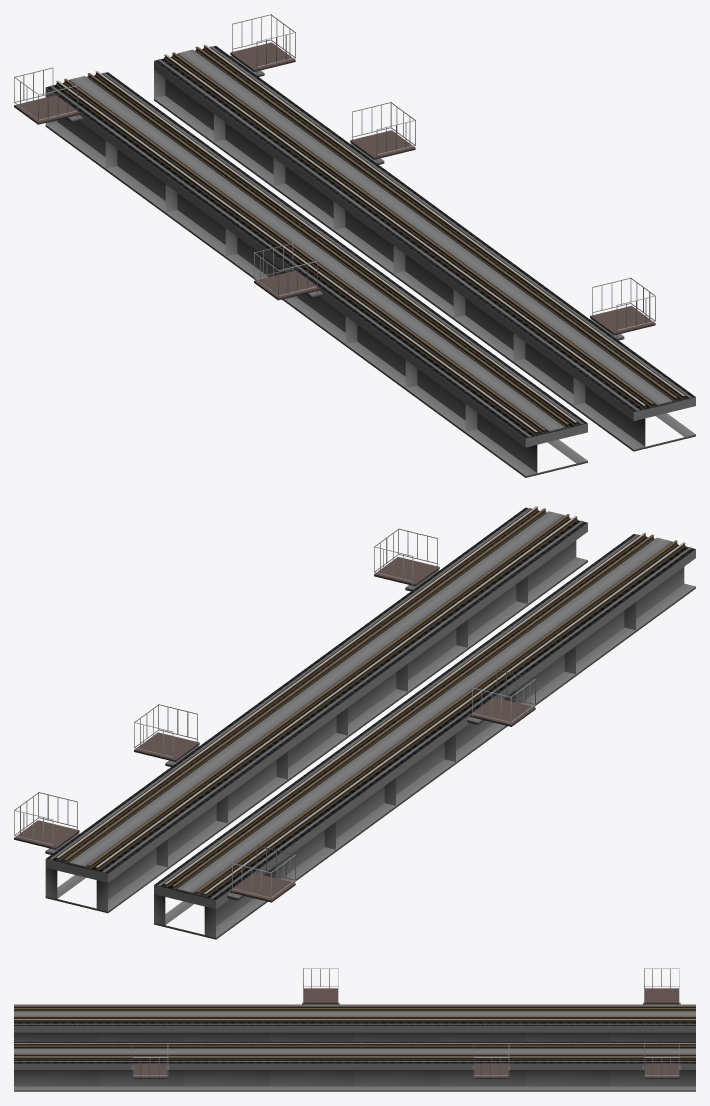
The model's file is YODO_TETU00.glb.
3 renders of one model, top to bottom at view 1: azimuth 30°, elevation 25°; view 2: azimuth 150°, elevation 25°; view 3: azimuth 270°, elevation 25°, orthographic. The views are drawn at different scales.
Parts seen in each view (by area): view 1: obj6; view 2: obj6; view 3: obj6.
Boxes of the visible parts, x1=… form: obj6: x1=14, y1=14, x2=695, y2=477; obj6: x1=14, y1=506, x2=695, y2=939; obj6: x1=14, y1=968, x2=695, y2=1091.
Bounding box in the file's own units: 31 × 7.94 × 100.
2 materials, 1 textured.
